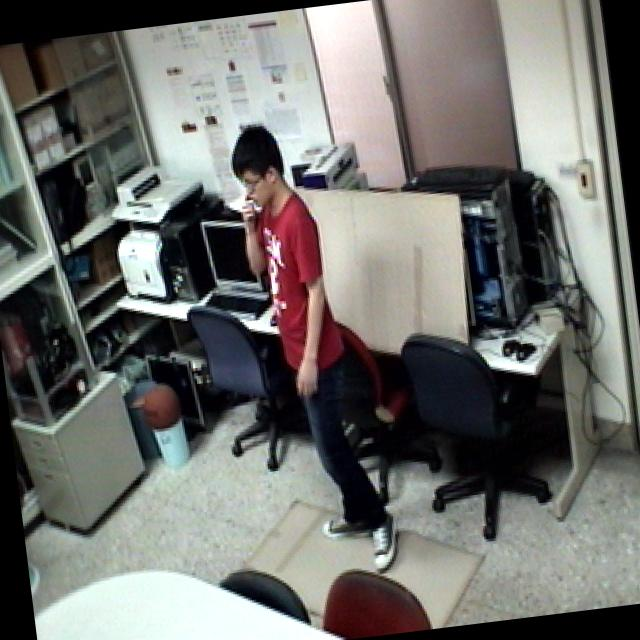stand: (215, 98, 420, 588)
